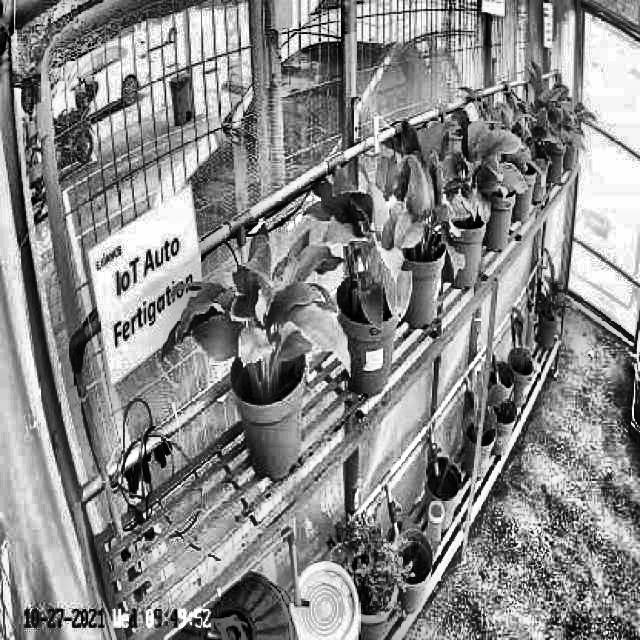plants: (162, 224, 350, 393), (308, 165, 412, 330), (412, 98, 528, 236), (367, 126, 464, 285)
